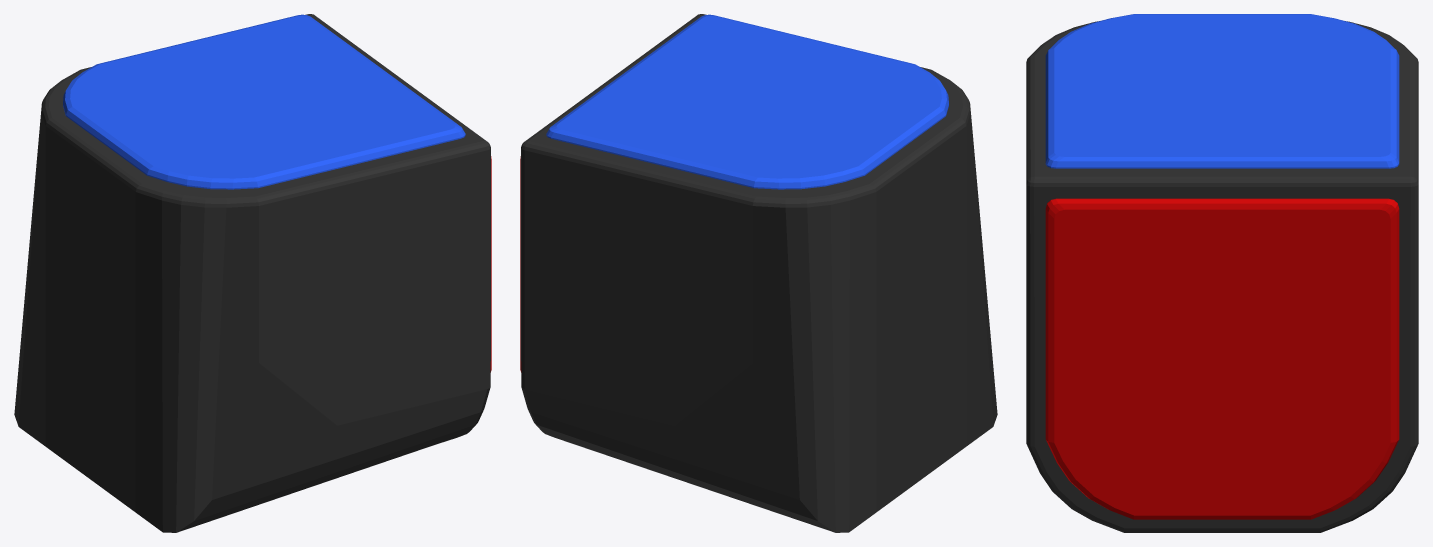
3 views of the same model, side by side, from view 1: azimuth 30°, elevation 25°; view 2: azimuth 150°, elevation 25°; view 3: azimuth 270°, elevation 25° (orthographic). The views are drawn at different scales.
Parts seen in each view (by area): view 1: Cube.027, Cube.063; view 2: Cube.027, Cube.063; view 3: Cube.060, Cube.063, Cube.027.
Boxes of the visible parts, <box> form: Cube.027: <box>14,14,490,532</box>; Cube.063: <box>63,14,465,189</box>; Cube.027: <box>521,14,997,532</box>; Cube.063: <box>546,14,948,189</box>; Cube.060: <box>1045,198,1399,519</box>; Cube.063: <box>1045,14,1399,168</box>; Cube.027: <box>1026,21,1418,532</box>.
Size of the model in its own units: 206 by 206 by 200.
